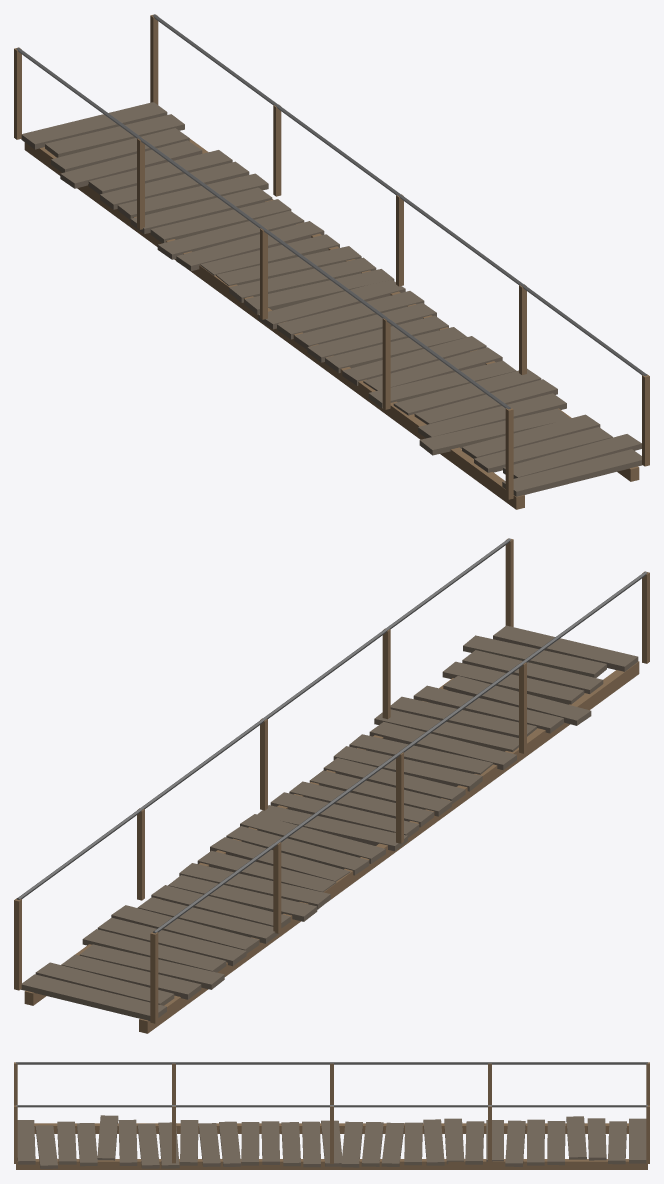
The model's file is ZR_PlankBridge.fbx.
3 views of the same model, one above another, from view 1: azimuth 30°, elevation 25°; view 2: azimuth 150°, elevation 25°; view 3: azimuth 270°, elevation 25° (orthographic). The views are drawn at different scales.
Visible parts, largest first — view 1: ZR_PlankBridge; view 2: ZR_PlankBridge; view 3: ZR_PlankBridge.
Part boxes in pixels (bbox=[...]): ZR_PlankBridge: bbox=[14, 14, 649, 509]; ZR_PlankBridge: bbox=[14, 538, 649, 1033]; ZR_PlankBridge: bbox=[14, 1062, 649, 1169].
Bounding box in the file's own units: 1.91 × 1.17 × 10.06.
